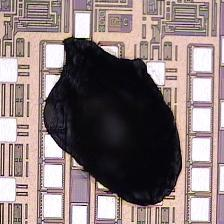PARTICLE: (46, 38, 183, 206)
